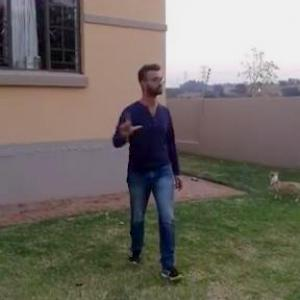land_hand: (112, 107, 144, 141)
